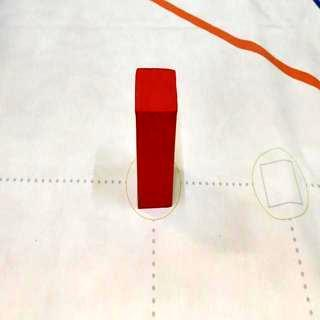redbox: (133, 67, 179, 209)
